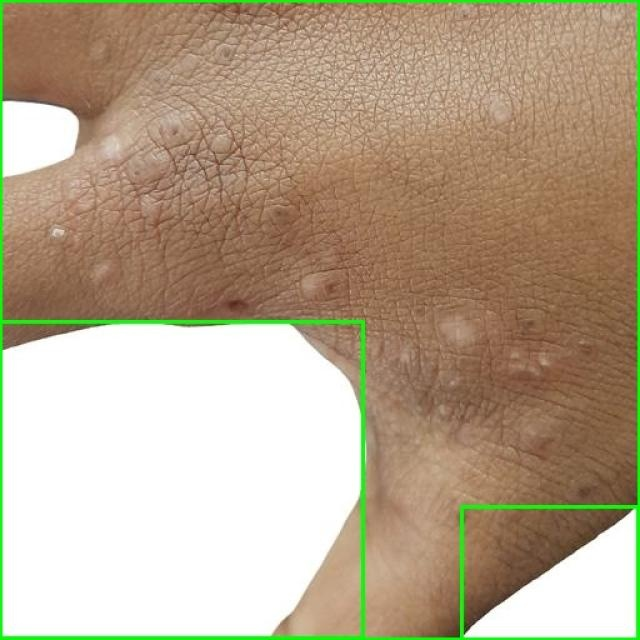Scabies: (0, 0, 639, 639), (0, 322, 364, 639), (462, 506, 639, 639)
